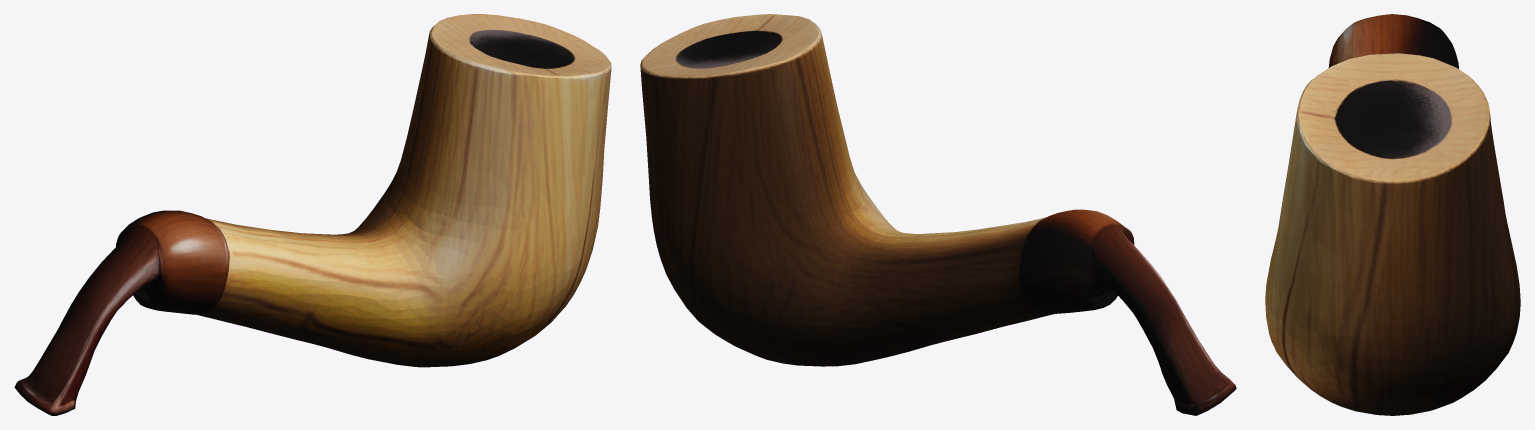
The model's file is wooden-pipe-vintage.jpeg.glb.
The picture shows the model from 3 angles, left to right: view 1: azimuth 30°, elevation 25°; view 2: azimuth 150°, elevation 25°; view 3: azimuth 270°, elevation 25°; orthographic projection. The views are drawn at different scales.
Visible parts, largest first — view 1: world; view 2: world; view 3: world.
Part boxes in pixels (<box>): world: <box>14,14,611,415</box>; world: <box>640,14,1236,415</box>; world: <box>1265,14,1520,415</box>.
Size of the model in its own units: 1 by 0.5138 by 0.348.
1 material, 1 textured.
